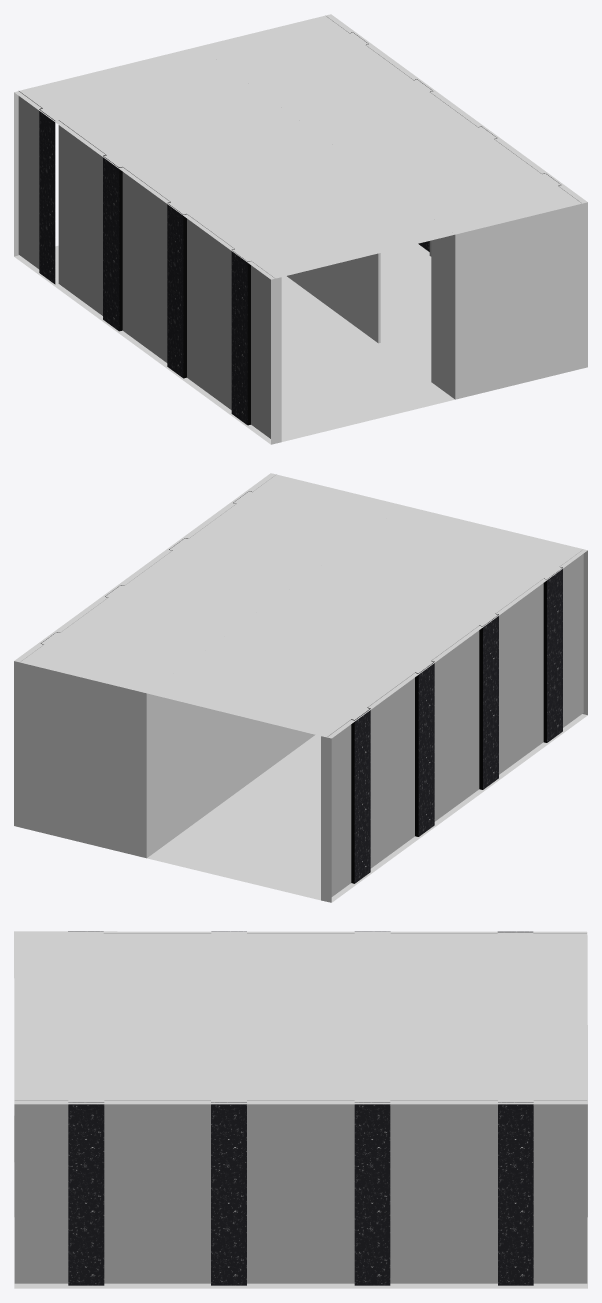
Rendered from cont2_650.gltf.
The picture shows the model from 3 angles, top to bottom: view 1: azimuth 30°, elevation 25°; view 2: azimuth 150°, elevation 25°; view 3: azimuth 270°, elevation 25°; orthographic projection. The views are drawn at different scales.
Parts seen in each view (by area): view 1: Cube, site19_wall_cb_modern.001; view 2: Cube, site19_wall_cb_modern.001; view 3: site19_wall_cb_modern, Cube, site19_wall_cb_modern.001.
Part boxes in pixels (bbox=[...]): Cube: bbox=[14, 14, 587, 444]; site19_wall_cb_modern.001: bbox=[18, 91, 273, 438]; Cube: bbox=[14, 473, 587, 902]; site19_wall_cb_modern.001: bbox=[327, 550, 583, 896]; site19_wall_cb_modern: bbox=[14, 1100, 587, 1285]; Cube: bbox=[14, 931, 587, 1288]; site19_wall_cb_modern.001: bbox=[68, 931, 586, 933].
Bounding box in the file's own units: 14.62 × 7.27 × 20.49.
Materials: 27 (8 with a texture image).
